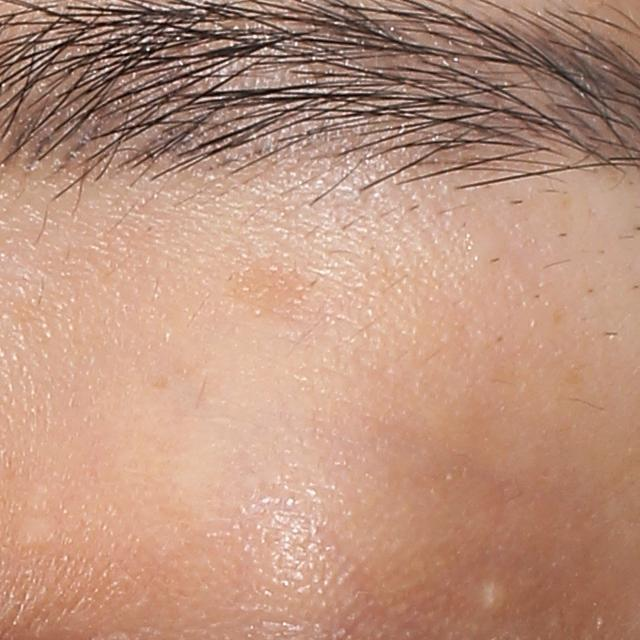comedo: (480, 581, 503, 615)
melasma: (223, 257, 316, 320)
other: (20, 514, 59, 550)
